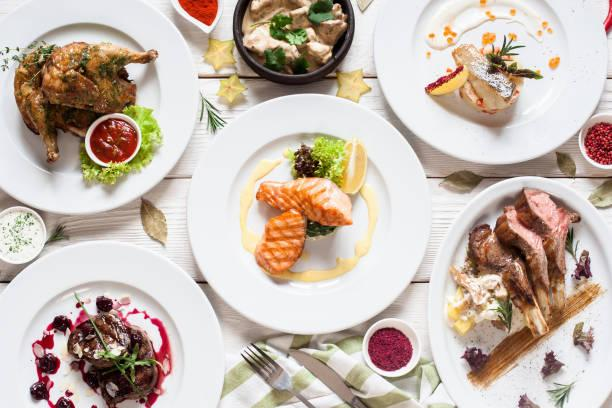Braised Crucian Carp: (184, 92, 428, 342), (0, 0, 202, 217), (426, 175, 612, 407), (370, 0, 608, 164), (0, 236, 226, 408)
